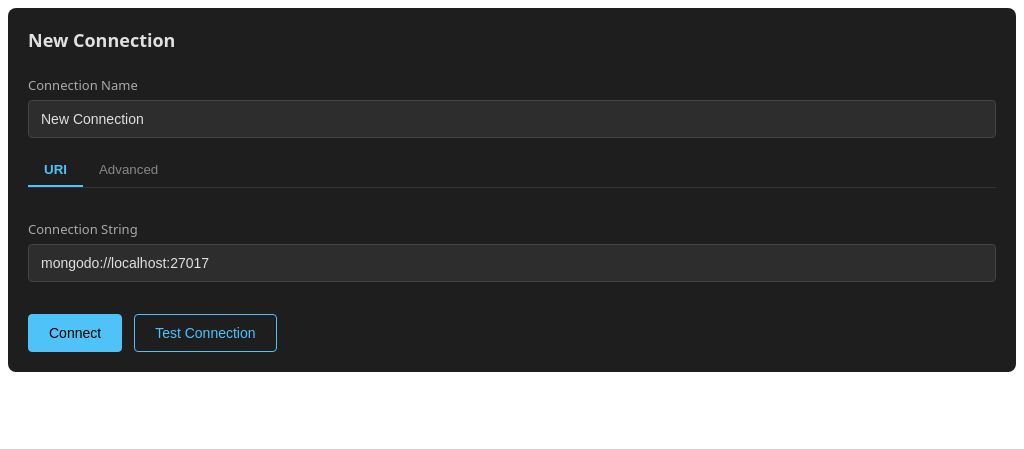
Test: ConnectionForm › test connection › shows success result after successful test
Click the button with test id "test-button" at (205, 333), box [134, 314, 277, 352]
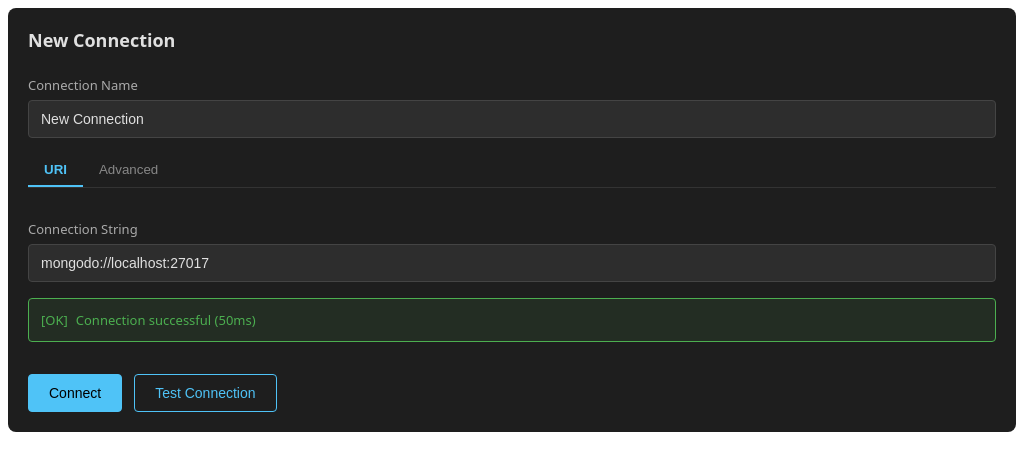
Check: the element with test id "test-result" is shown, box [28, 298, 996, 342]
Check: the text "Connection successful (50ms)" is shown, box [76, 311, 256, 329]
